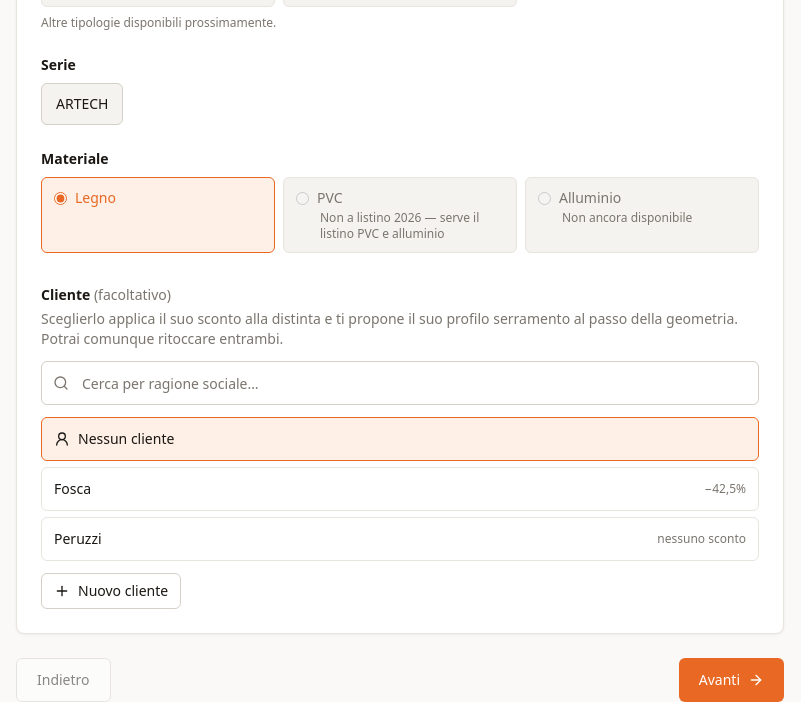
Scenario: NuovaRichiestaClient › finitura: propone ARGENTO come unica opzione (tabella coperture ARTECH legno)
(page scrolled)
Click the button "Avanti" at (731, 680), box [679,658,784,701]
(page scrolled)
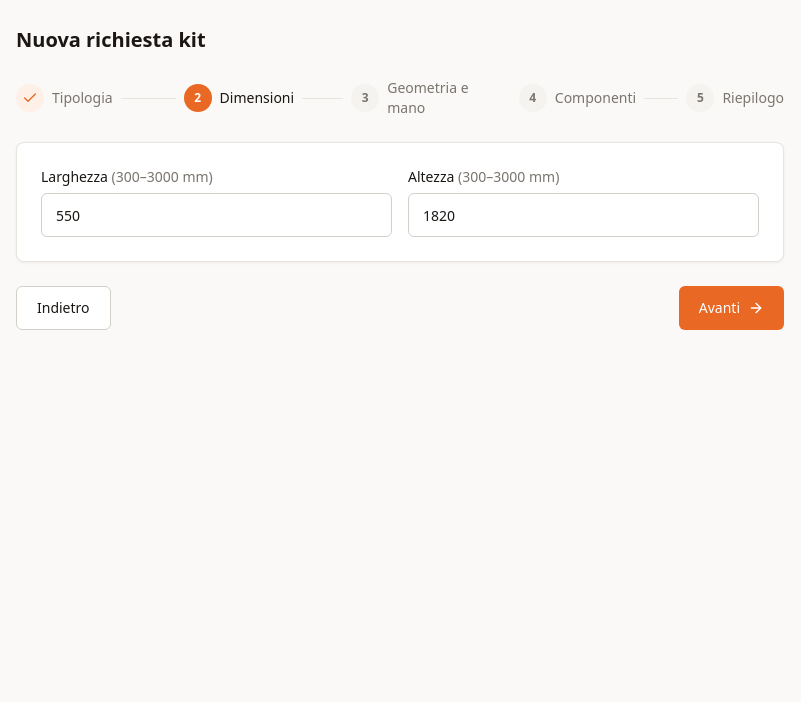
Click the button "Avanti" at (731, 308), box [679,286,784,330]
(page scrolled)
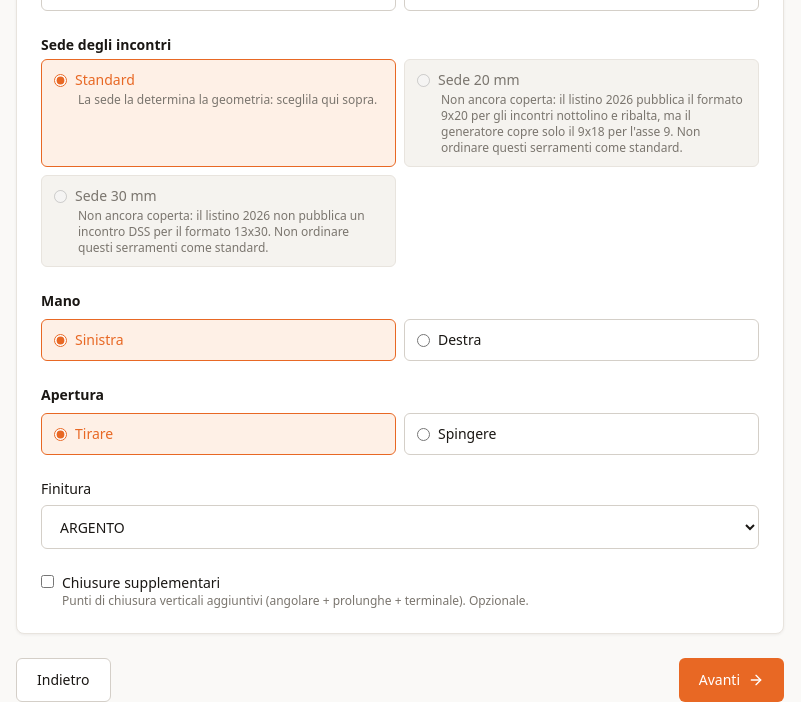
Expected: the dropdown labelled "Finitura" shows "ARGENTO", [41,505,759,549]
